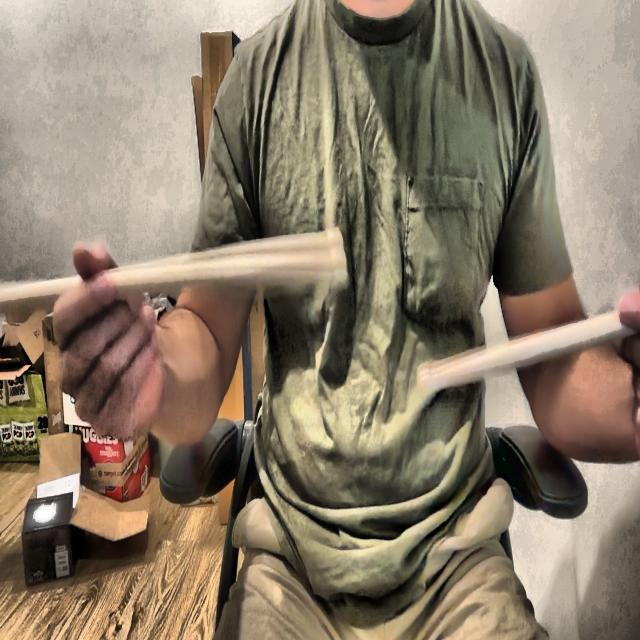Drumstick-Heads: (321, 222, 353, 297), (417, 357, 434, 398)
